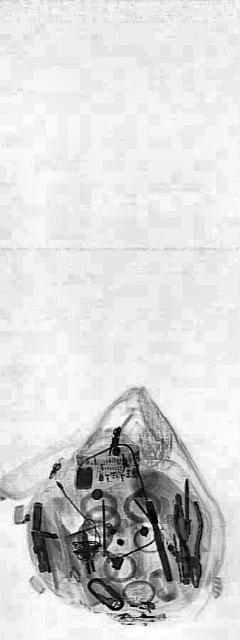Pliers: (172, 492, 208, 596)
